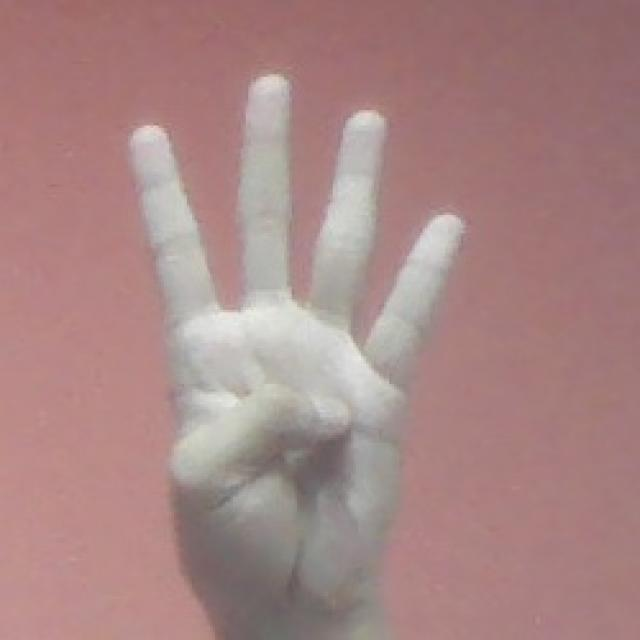Numeric-4: (126, 75, 465, 610)
